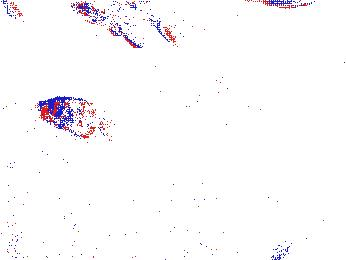X-ray fish: (215, 97, 292, 142)
redtail glassfish: (74, 1, 180, 49), (38, 100, 113, 141)
